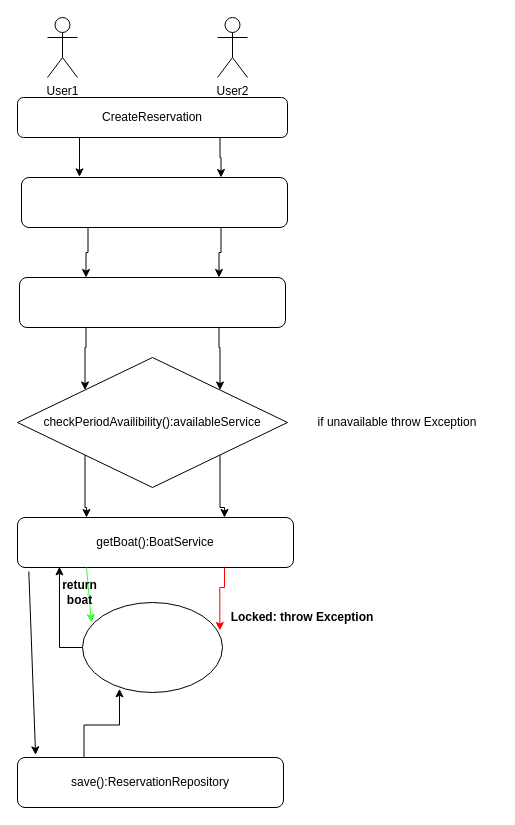
Some shapes in this 515 by 825 pixel diagram are drawn without their labels. The box of each missing label's shape, as (x1, y1, x2, y2) in pixels:
create():ReservationController: (20, 176, 288, 228)
createReservation():ReservationService: (18, 276, 286, 328)
Database: (82, 602, 222, 692)
